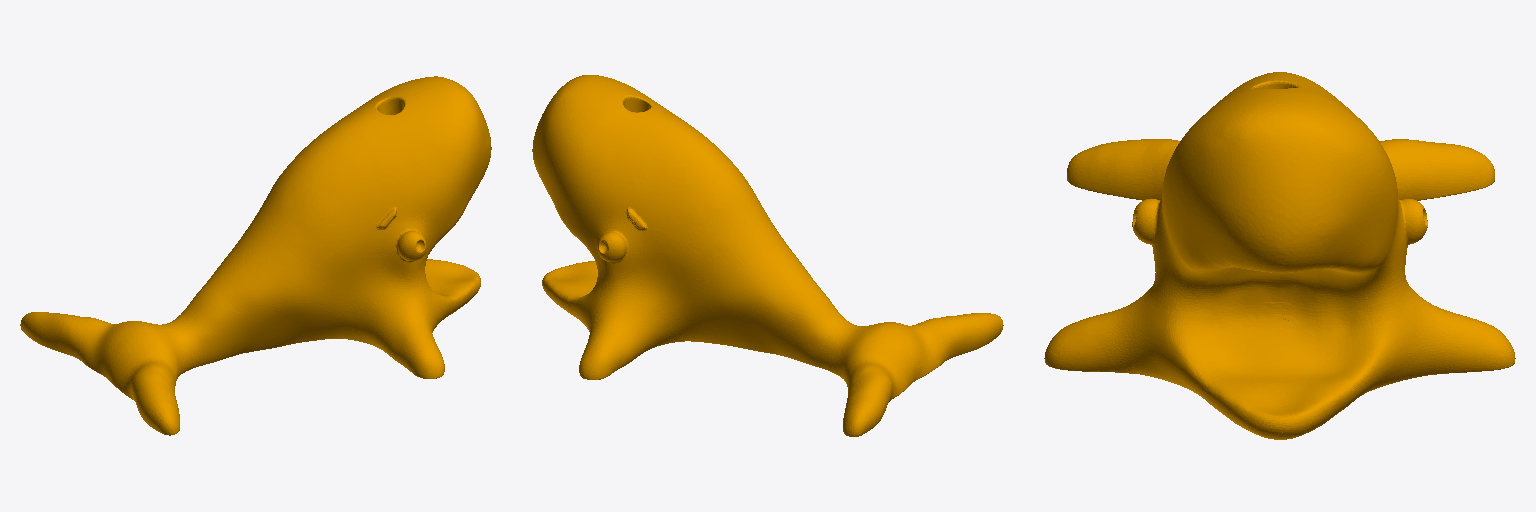
robot.urdf — 80597:
<?xml version='1.0'?>

<robot name="80597">
    <static>false</static>
    <link name="link">
        <inertial>
            <mass value="0.07146178393611388"/>
            <inertia ixx="2.447971128677539e-05" ixy="4.591976665418167e-08" ixz="-1.2820084936485683e-05"
                     iyy="5.284817026633251e-05" iyz="1.3406512481639442e-07" izz="4.4501964002830035e-05"/>
        </inertial>
        <collision name="collision">
            <geometry>
                <mesh filename="package://miscnet/train/80597/collision_model_vhacd.obj"/>
            </geometry>
        </collision>
        <visual name="visual">
            <geometry>
                <mesh filename="package://miscnet/train/80597/visual_model.obj"/>
            </geometry>
        </visual>
    </link>
</robot>

--- Render facts (derived) ---
3 views of the same robot in one strip: view 1: azimuth 30°, elevation 25°; view 2: azimuth 150°, elevation 25°; view 3: azimuth 270°, elevation 25° (orthographic).
Robot: 80597 — 1 links, 0 joints (none); root link link; default pose: all joints at 0.
Links seen in each view (by area): view 1: link; view 2: link; view 3: link.
Link boxes in pixels (x1,y1,x2,y2): link: (20, 76, 491, 435); link: (532, 75, 1003, 436); link: (1044, 72, 1515, 439).
Bounding box of the posed robot: 0.1076 × 0.0765 × 0.0564 m (x, y, z).
Meshes: 1 distinct files referenced, 1 mesh visuals loaded (1 OBJ).
